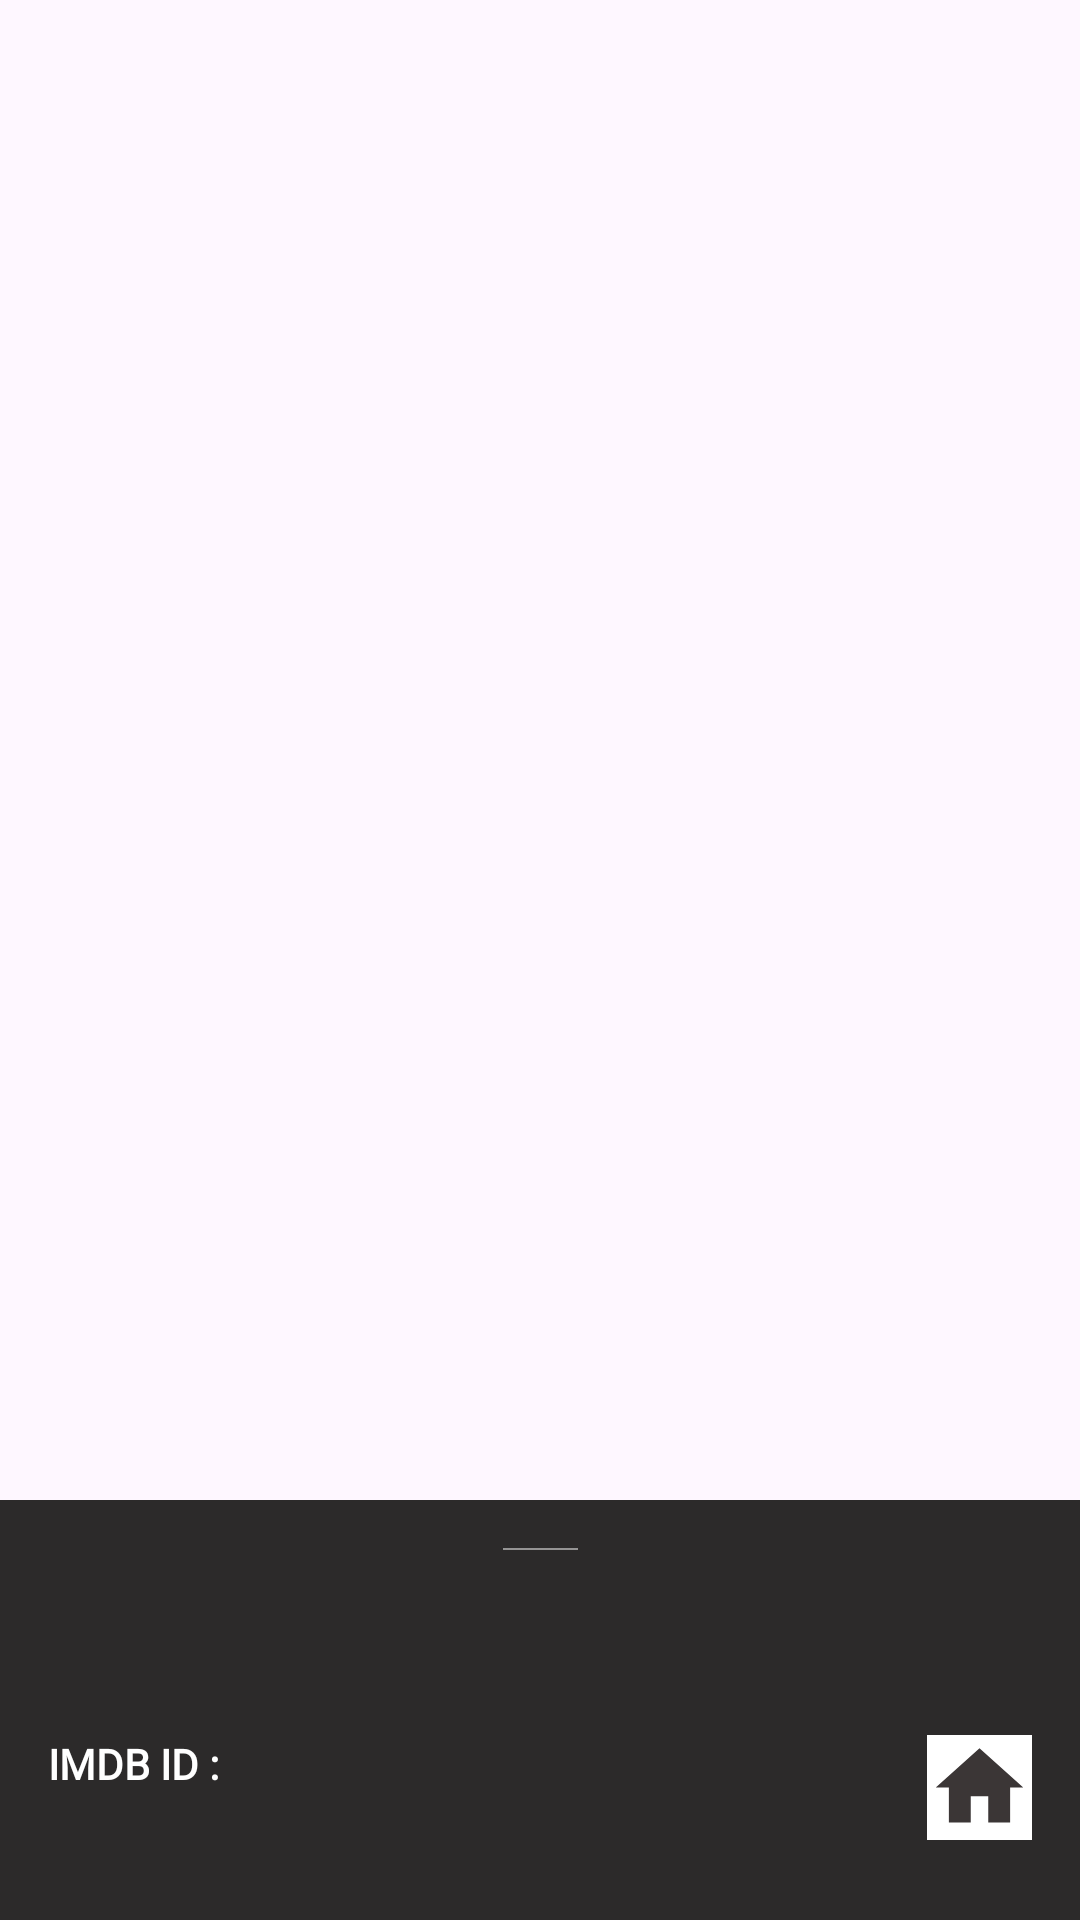

Icon bounding boxes for this 1080*1920 phone screenshot, format (x1, y1, x2, y2):
home: (927, 1735, 1032, 1840)
